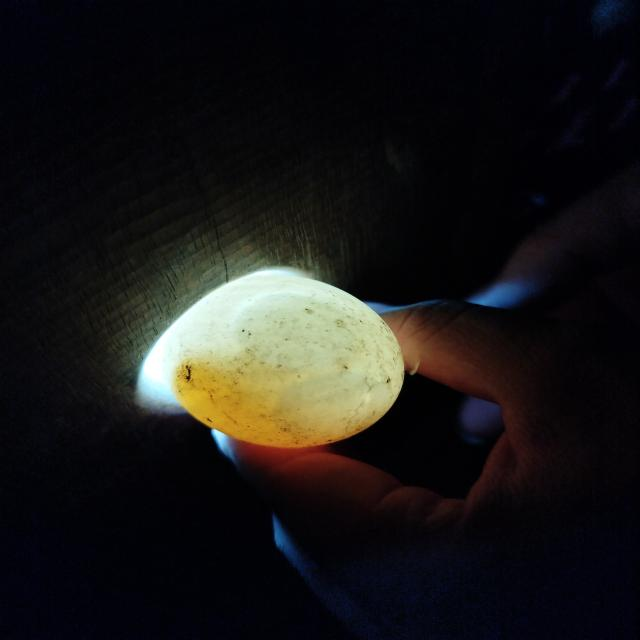Camara de Ar: (236, 294, 355, 368)
